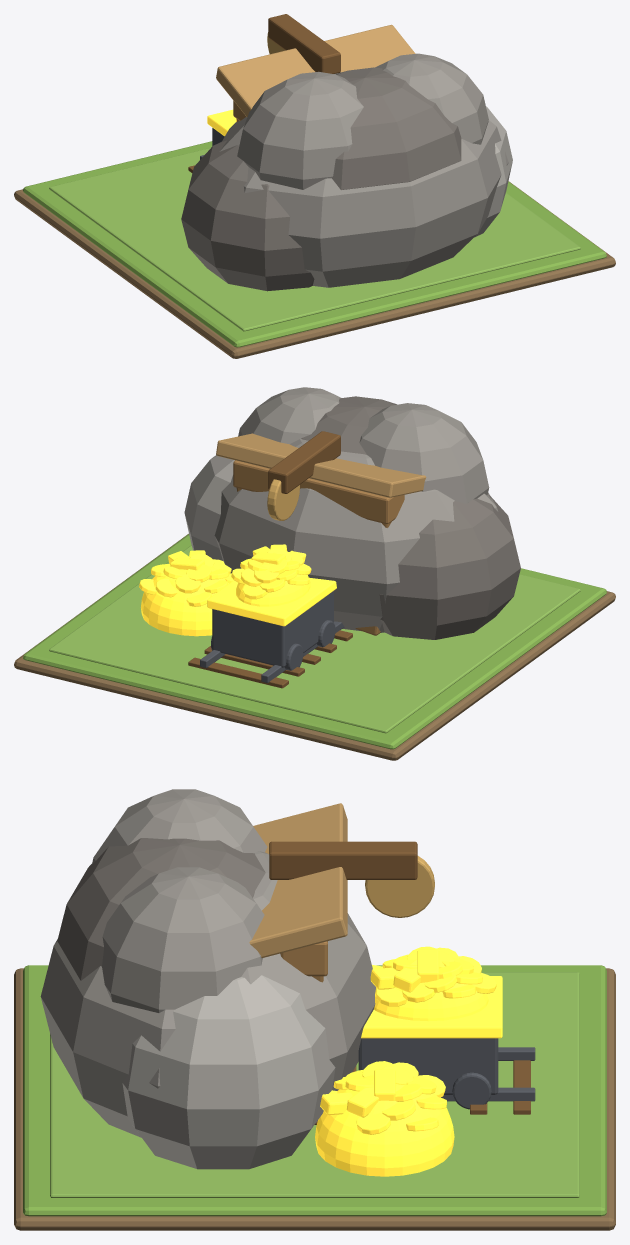
File: gold_mine_lv2.glb
3 views of the same model, one above another, from view 1: azimuth 30°, elevation 25°; view 2: azimuth 150°, elevation 25°; view 3: azimuth 270°, elevation 25° (orthographic). The views are drawn at different scales.
Parts seen in each view (by area): view 1: Base_Inner, MineRock_0, Base_Grass, MineRock_1, MineRock_4, MineRock_3, Base_Dirt, PortalRoof, MineRock_5, HoistBeam, MineRock_2, MinecartRim; view 2: Base_Inner, MineRock_0, MineRock_1, Base_Grass, MineRock_4, Base_Dirt, MinecartBody, PortalRoof, MineRock_5, MineRock_2, PortalHeader, GoldMoundBase.001 (+6 smaller); view 3: Base_Inner, MineRock_2, Base_Grass, MineRock_0, MineRock_5, Base_Dirt, MineRock_3, PortalRoof, GoldMoundBase.001, MineRock_4, HoistBeam, MinecartBody (+11 smaller).
Part boxes in pixels (bbox=[...]): Base_Inner: bbox=[49, 148, 580, 331]; MineRock_0: bbox=[219, 72, 508, 287]; Base_Grass: bbox=[23, 141, 606, 347]; MineRock_1: bbox=[181, 140, 314, 291]; MineRock_4: bbox=[237, 71, 363, 189]; MineRock_3: bbox=[332, 67, 461, 189]; Base_Dirt: bbox=[14, 181, 615, 358]; PortalRoof: bbox=[216, 24, 415, 117]; MineRock_5: bbox=[375, 53, 488, 144]; HoistBeam: bbox=[268, 14, 340, 73]; MineRock_2: bbox=[474, 106, 512, 237]; MinecartRim: bbox=[207, 109, 236, 136]; Base_Inner: bbox=[49, 545, 580, 733]; MineRock_0: bbox=[214, 439, 498, 632]; MineRock_1: bbox=[379, 494, 520, 639]; Base_Grass: bbox=[23, 534, 606, 749]; MineRock_4: bbox=[359, 403, 489, 503]; Base_Dirt: bbox=[14, 533, 615, 760]; MinecartBody: bbox=[212, 591, 333, 667]; PortalRoof: bbox=[216, 433, 426, 497]; MineRock_5: bbox=[238, 387, 340, 444]; MineRock_2: bbox=[184, 455, 234, 560]; PortalHeader: bbox=[233, 460, 404, 524]; GoldMoundBase.001: bbox=[141, 566, 228, 636]; Base_Inner: bbox=[50, 972, 579, 1197]; MineRock_2: bbox=[122, 975, 335, 1169]; Base_Grass: bbox=[23, 965, 606, 1216]; MineRock_0: bbox=[40, 851, 375, 1137]; MineRock_5: bbox=[102, 867, 264, 1012]; Base_Dirt: bbox=[14, 968, 615, 1230]; MineRock_3: bbox=[57, 838, 265, 980]; PortalRoof: bbox=[249, 803, 347, 957]; GoldMoundBase.001: bbox=[315, 1075, 454, 1176]; MineRock_4: bbox=[92, 789, 267, 863]; HoistBeam: bbox=[269, 841, 417, 879]; MinecartBody: bbox=[358, 1038, 498, 1094].
Bounding box in the file's own units: 2.76 × 1.51 × 2.76.
